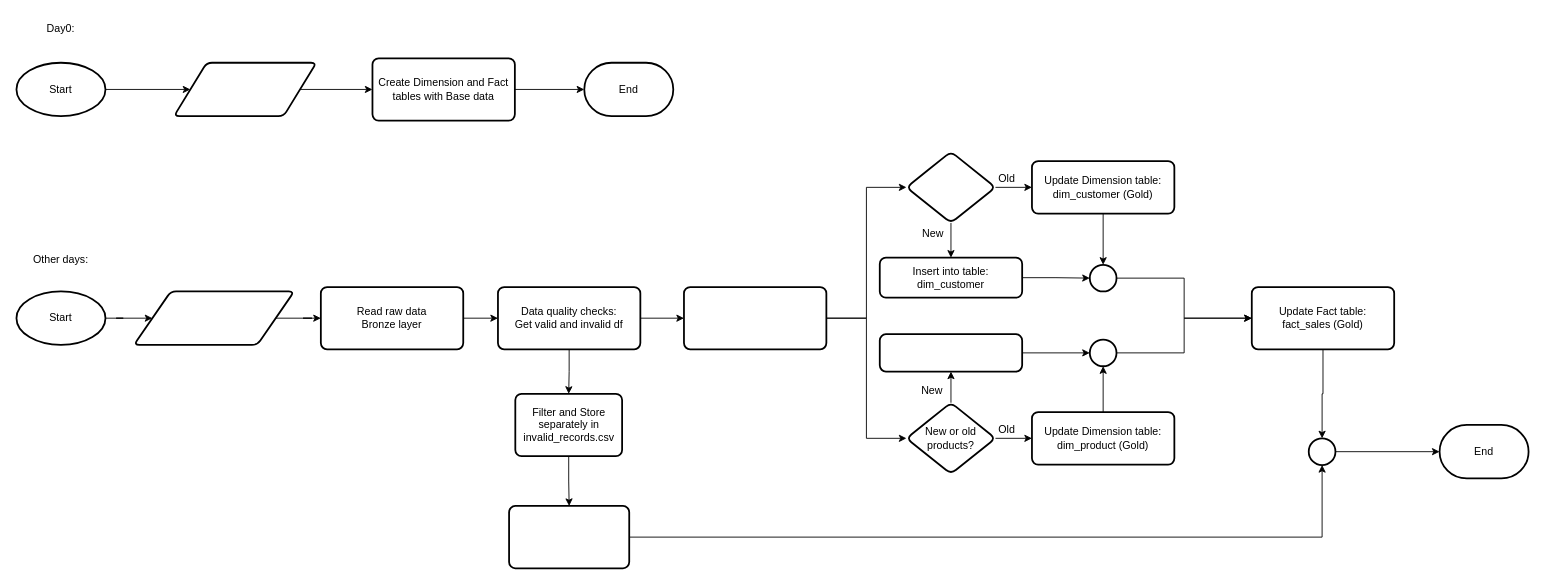
The diagram is 1544 pixels wide and 584 high, and some of its shapes have lost their labels. The centre of each missing label's shape, as x and y in pixels:
"Insert into table: dim_product" goes at point 950,352.
"New or old customers?" goes at point 950,186.
"SampleData_Base" goes at point 245,89.
"SampleData_Updates" goes at point 214,317.
"Send as email attachment to client/ functional team" goes at point 569,537.
"Standardize valid df Silver layer" goes at point 755,318.
